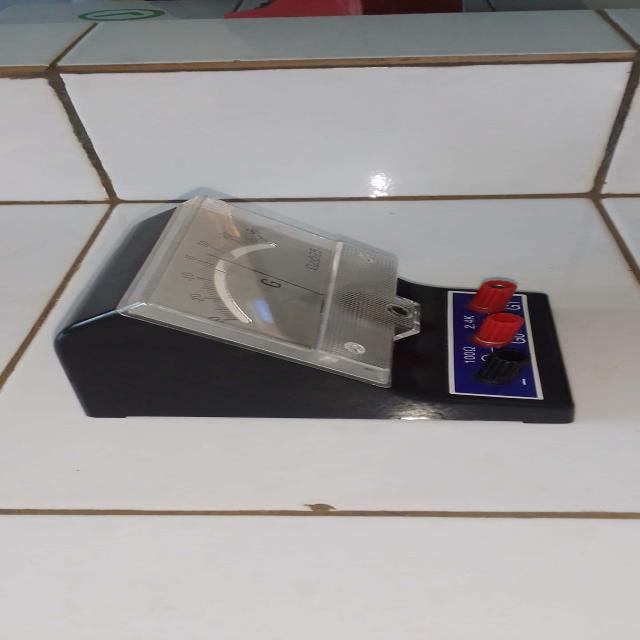Galvanometer: (61, 189, 591, 444)
